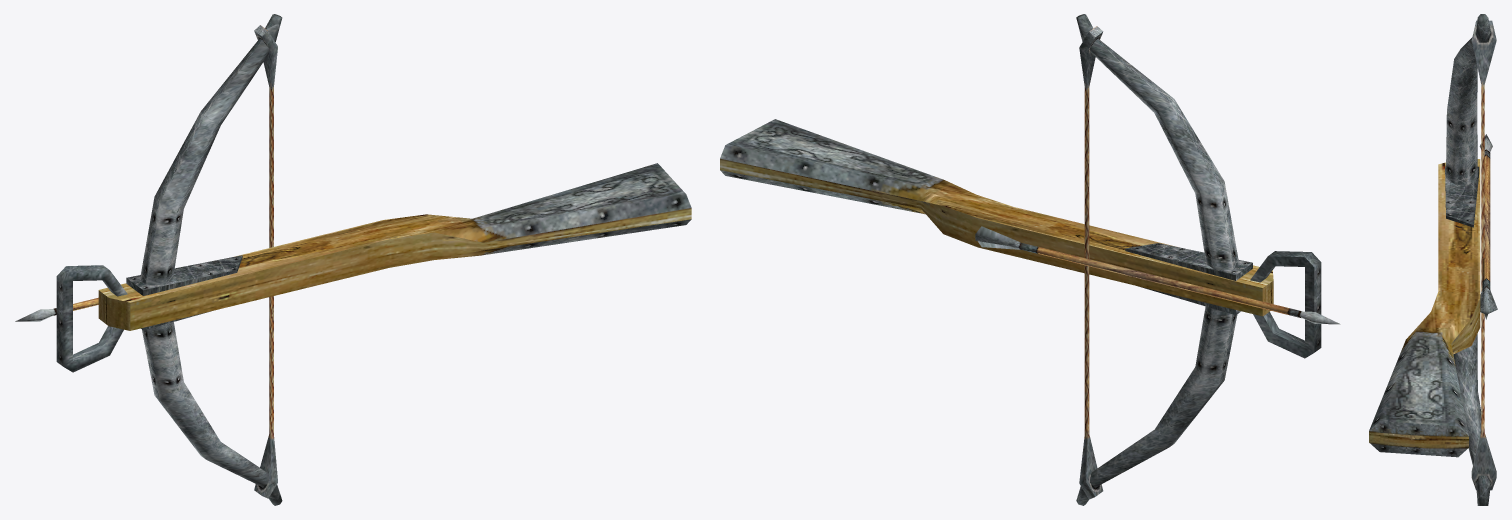
The model's file is wp_arbalest13.glb.
3 renders of one model, left to right at view 1: azimuth 30°, elevation 25°; view 2: azimuth 150°, elevation 25°; view 3: azimuth 270°, elevation 25°, orthographic.
Visible parts, largest first — view 1: wp_arbalest13; view 2: wp_arbalest13; view 3: wp_arbalest13.
Part boxes in pixels (x1,y1,x2,y2): wp_arbalest13: (15, 14, 691, 505); wp_arbalest13: (720, 14, 1340, 505); wp_arbalest13: (1369, 14, 1497, 505).
Size of the model in its own units: 0.812 by 0.6035 by 0.1433.
1 material, 1 textured.
